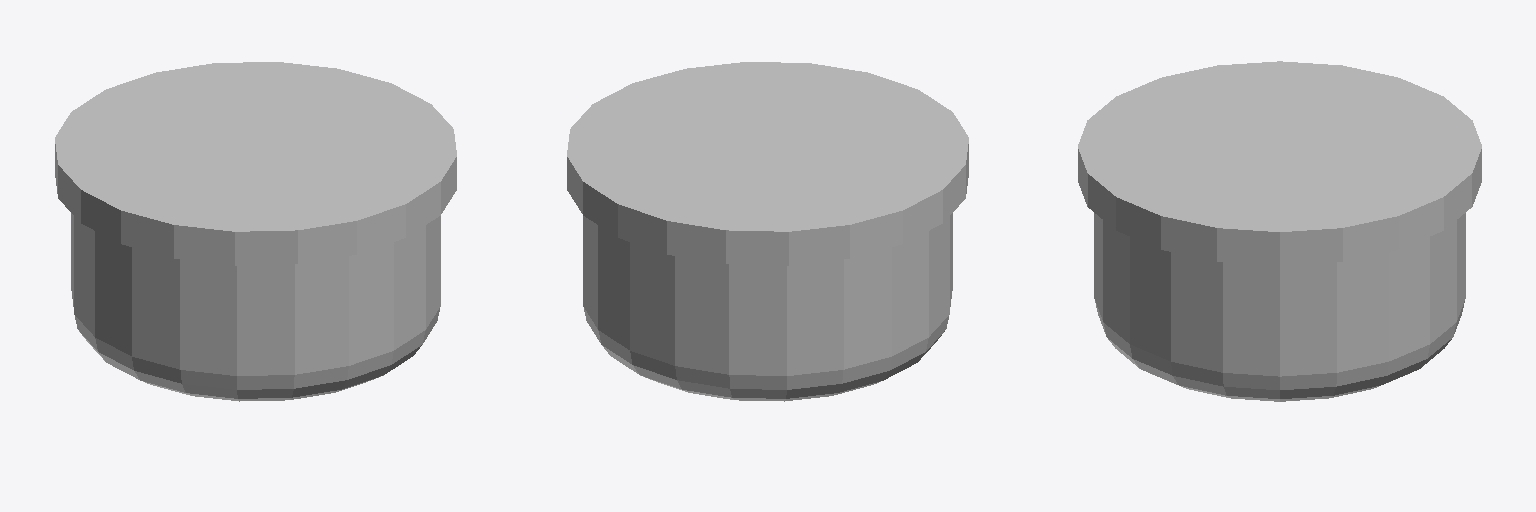
The model's file is SM_CeilingLight_001.obj.
3 renders of one model, left to right at view 1: azimuth 30°, elevation 25°; view 2: azimuth 150°, elevation 25°; view 3: azimuth 270°, elevation 25°, orthographic.
Visible parts, largest first — view 1: pCylinder60; view 2: pCylinder60; view 3: pCylinder60.
Boxes of the visible parts, x1,y1,x2,y2 form: pCylinder60: [55, 62, 456, 401]; pCylinder60: [567, 62, 968, 401]; pCylinder60: [1078, 61, 1481, 401].
Bounding box in the file's own units: 27.57 × 16.42 × 27.57.